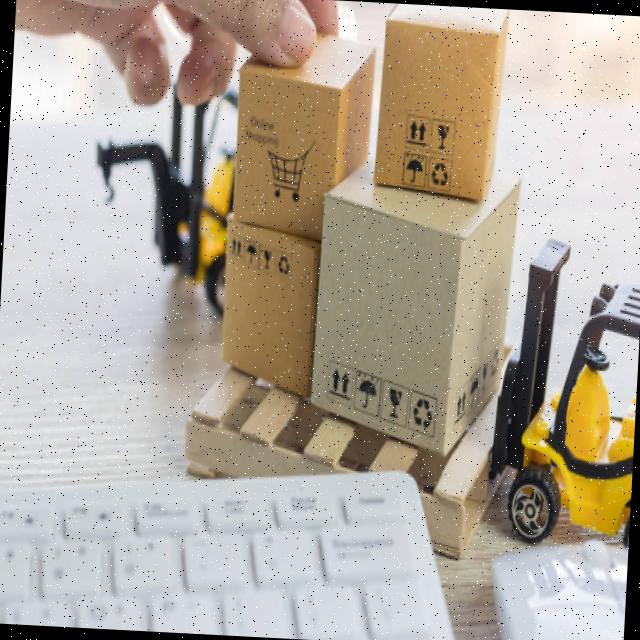Wooden-Pallets: (182, 360, 502, 563)
